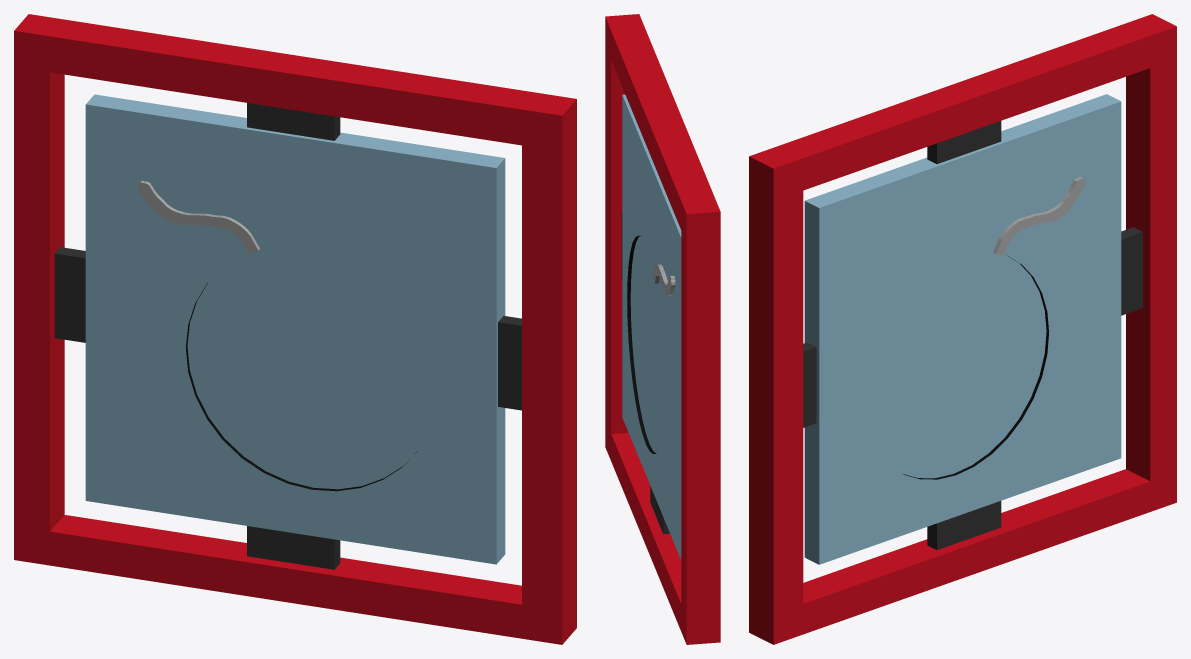
The model's file is bombPowUp.obj.
The picture shows the model from 3 angles, left to right: view 1: azimuth 30°, elevation 25°; view 2: azimuth 150°, elevation 25°; view 3: azimuth 270°, elevation 25°; orthographic projection. The views are drawn at different scales.
Parts seen in each view (by area): view 1: Cube_Cube.007; view 2: Cube_Cube.007; view 3: Cube_Cube.007.
Part boxes in pixels (box(x1,y1,x2,y2)): Cube_Cube.007: box(14, 14, 576, 644); Cube_Cube.007: box(605, 14, 720, 644); Cube_Cube.007: box(749, 14, 1176, 644).
Bounding box in the file's own units: 1.39 × 2 × 1.63.
